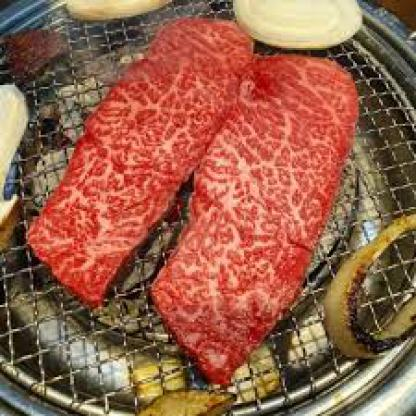beef: (113, 39, 322, 346)
